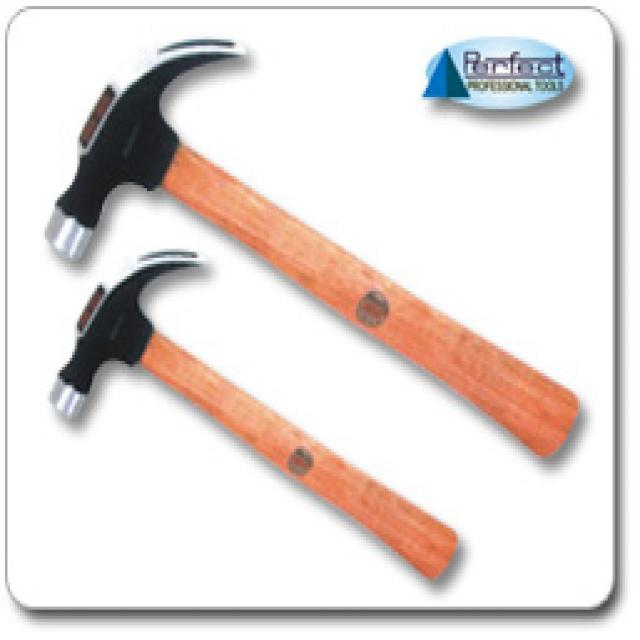hammer: (38, 13, 593, 461), (26, 232, 481, 596)
